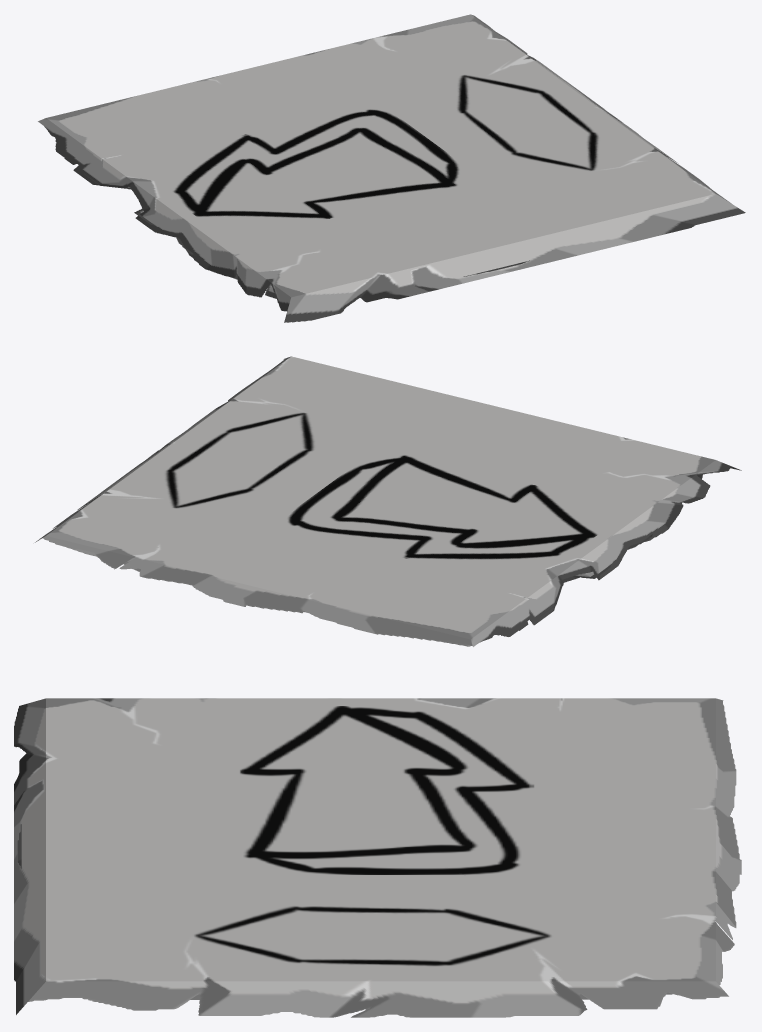
File: bankExtractor.obj
The picture shows the model from 3 angles, top to bottom: view 1: azimuth 30°, elevation 25°; view 2: azimuth 150°, elevation 25°; view 3: azimuth 270°, elevation 25°; orthographic projection. The views are drawn at different scales.
Visible parts, largest first — view 1: Cube_Cube.001; view 2: Cube_Cube.001; view 3: Cube_Cube.001.
Part boxes in pixels (box(x1,y1,x2,y2)): Cube_Cube.001: box(38, 14, 745, 322); Cube_Cube.001: box(35, 356, 741, 646); Cube_Cube.001: box(14, 698, 741, 1017).
Bounding box in the file's own units: 20 × 0.6826 × 20.
1 material, 1 textured.
